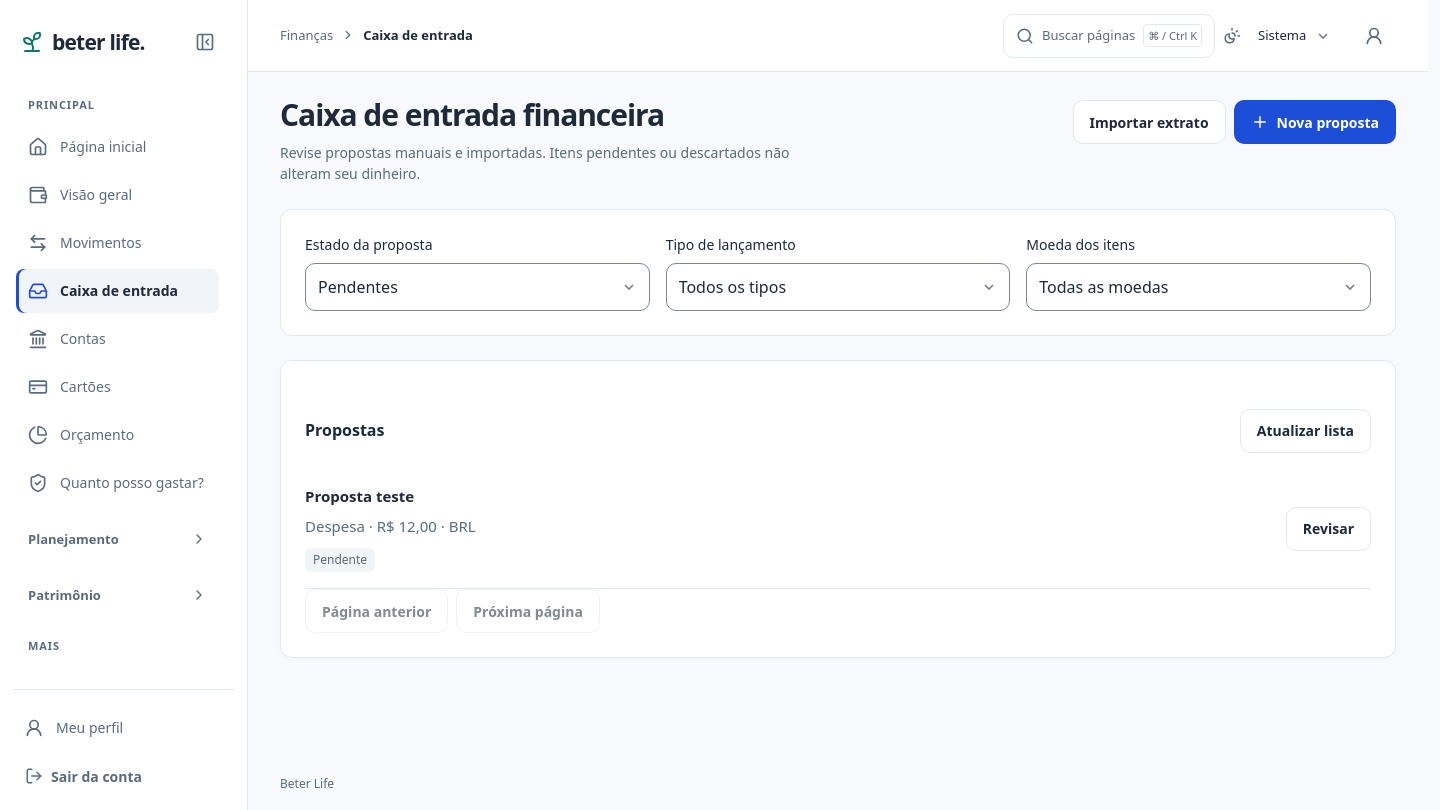
Test: Inbox protected UI with generated transport contracts › discards only after explicit confirmation and retains terminal history
The width and height of the screenshot is (1440, 810).
Click the button with aria-label "Revisar Proposta teste". click: (1328, 529)
box: x1=1286 y1=507 x2=1371 y2=551
(page scrolled)
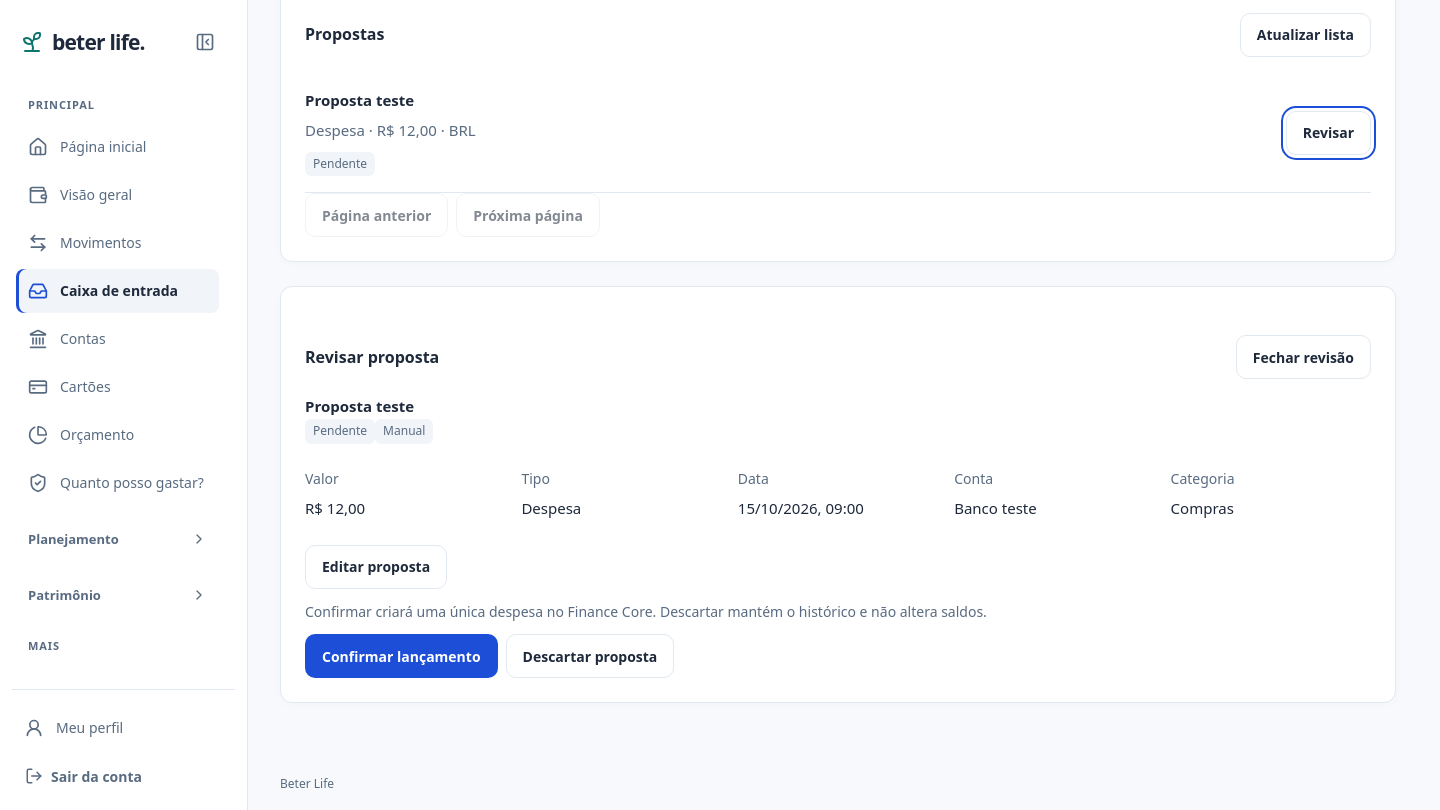
Click the button "Descartar proposta". click: (590, 656)
box: x1=506 y1=634 x2=674 y2=678
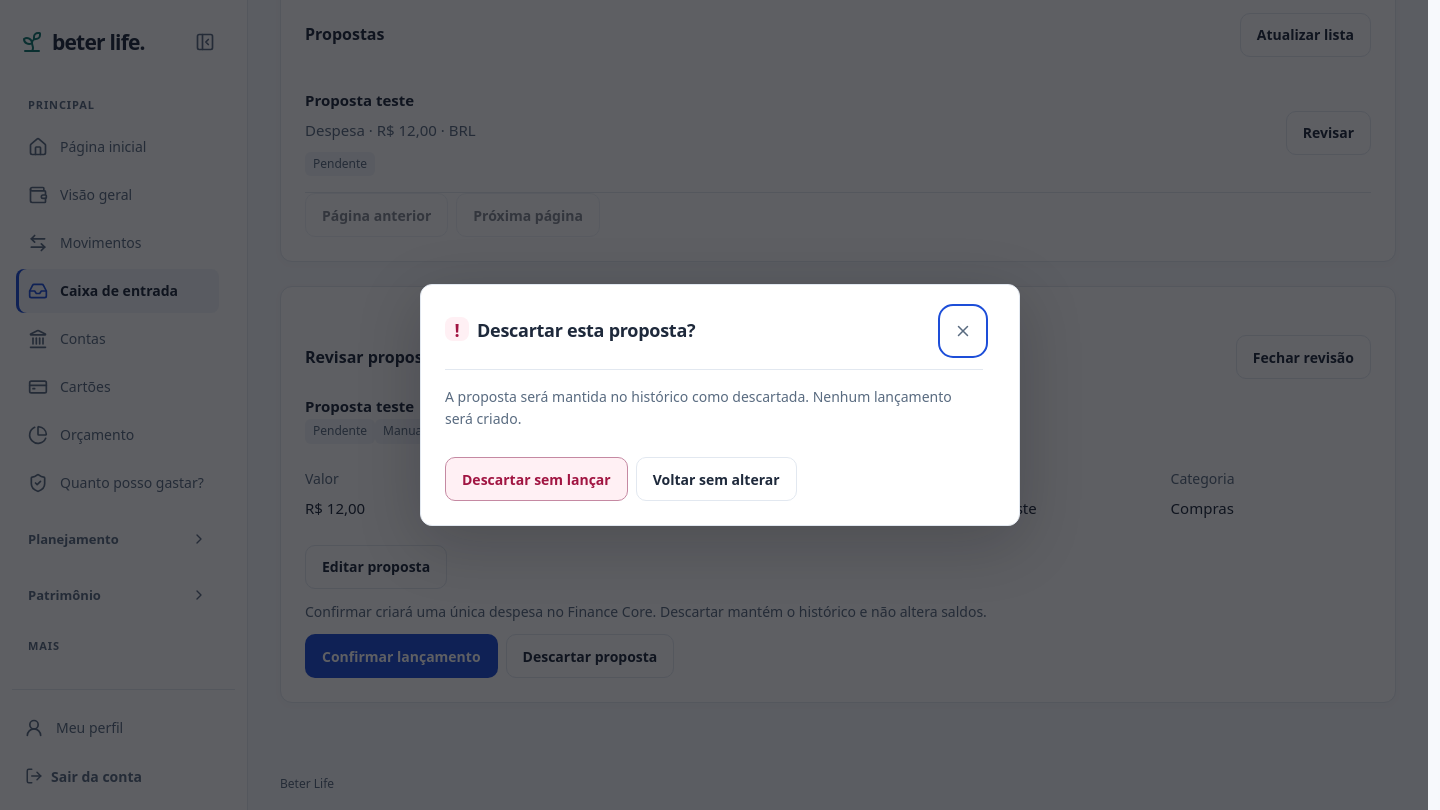
Click the button "Descartar sem lançar". click: (536, 479)
box: x1=445 y1=457 x2=628 y2=501
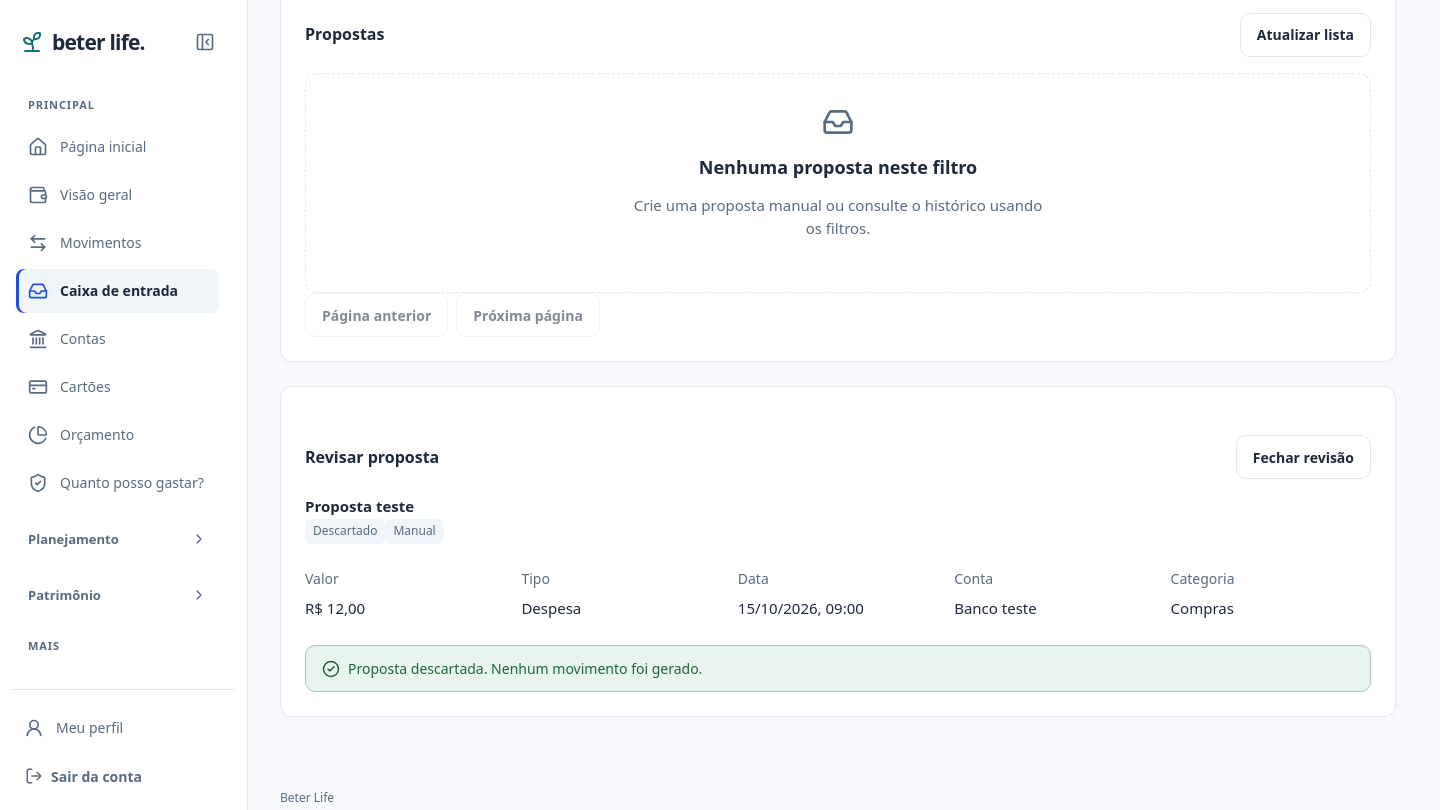
Expected: the text "Proposta descartada. Nenhum movimento foi gerado." is shown, x1=348 y1=658 x2=702 y2=678
